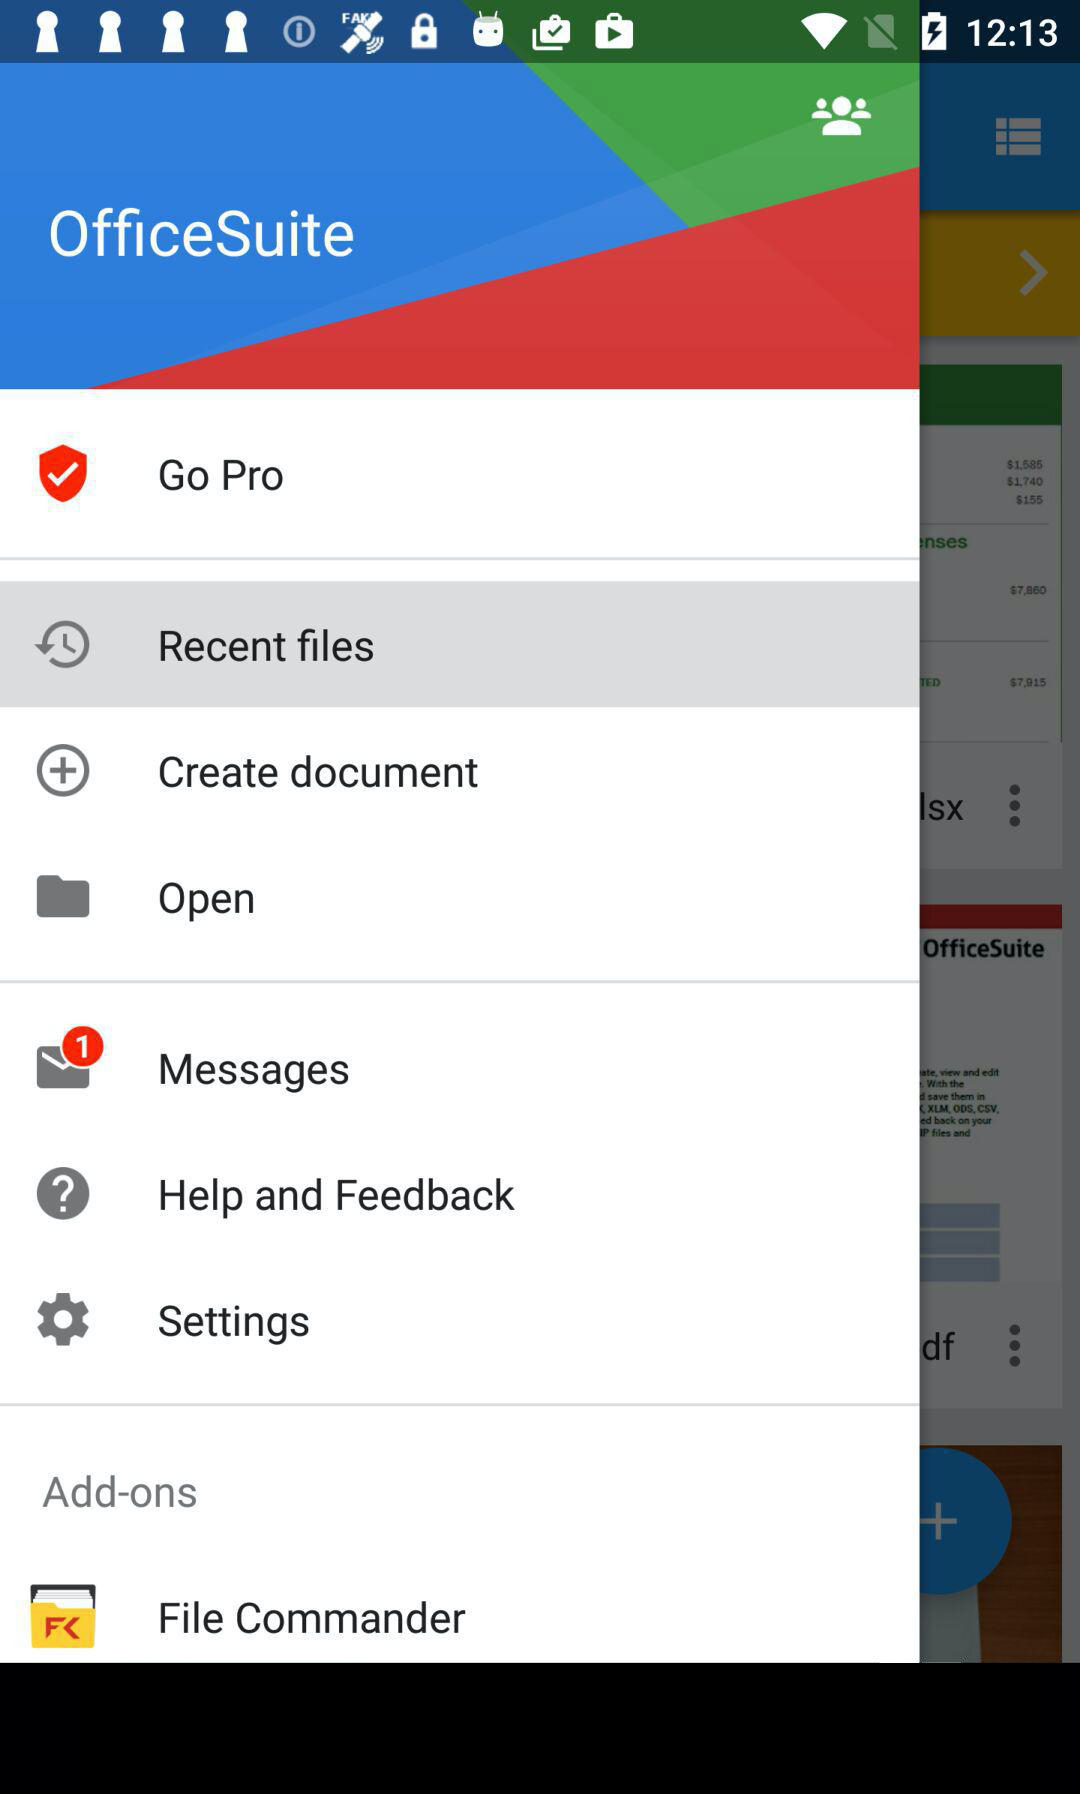Drawer: (1, 64, 920, 1663)
Icon: (37, 1025, 106, 1090), (37, 1167, 91, 1221), (37, 745, 91, 798), (38, 1293, 91, 1347), (35, 620, 91, 670), (810, 96, 874, 138), (37, 875, 91, 919)
Image: (29, 1583, 97, 1649), (38, 443, 90, 504)
Text: (49, 206, 356, 260), (160, 1176, 518, 1220), (159, 753, 479, 789), (160, 1601, 468, 1635), (160, 1053, 350, 1096), (160, 627, 375, 664), (158, 1304, 311, 1345), (44, 1474, 199, 1510), (159, 459, 284, 492), (159, 882, 255, 924)
UpperTaskBar: (1, 1, 1080, 64)
